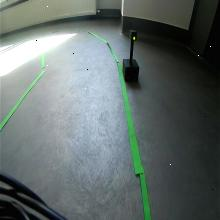green: (128, 29, 138, 42)
